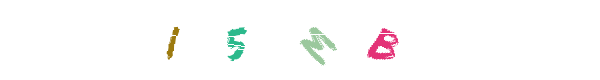5: (259, 0, 339, 80)
B: (291, 0, 371, 80)
I: (196, 0, 276, 80)
M: (266, 0, 346, 80)
